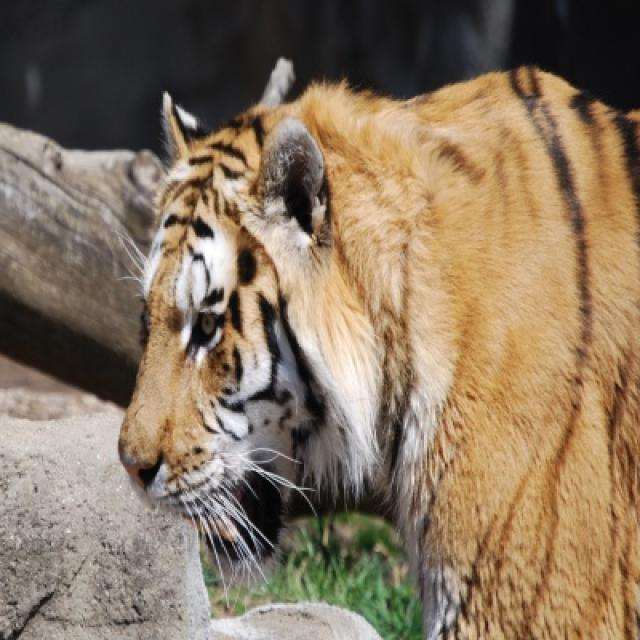Tiger: (117, 58, 638, 638)
